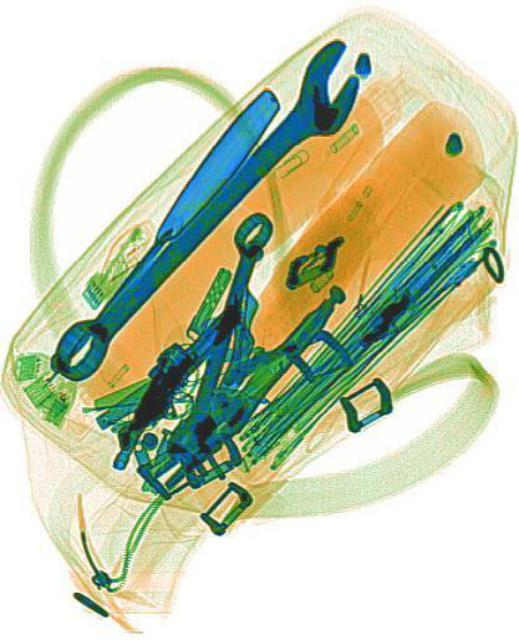Gun: (106, 283, 239, 489)
Knife: (29, 82, 284, 394)
Wrench: (30, 29, 379, 399), (164, 205, 273, 465)
